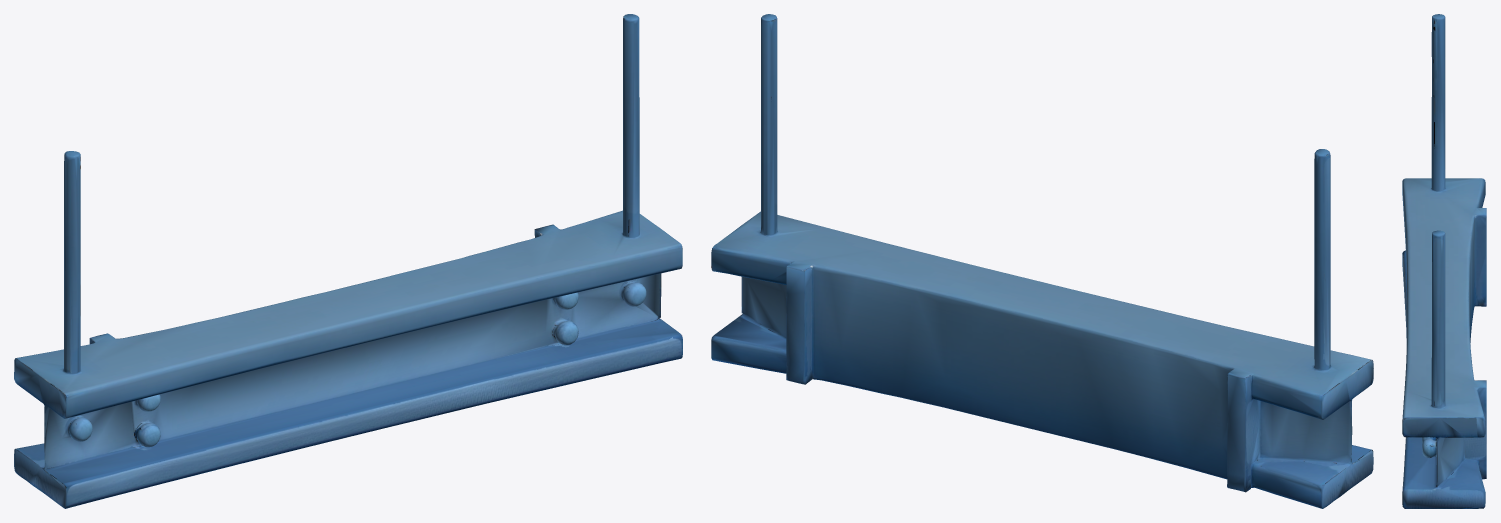
File: obstacle_duckbeam.glb
3 renders of one model, left to right at view 1: azimuth 30°, elevation 25°; view 2: azimuth 150°, elevation 25°; view 3: azimuth 270°, elevation 25°, orthographic. The views are drawn at different scales.
Visible parts, largest first — view 1: model; view 2: model; view 3: model.
Boxes of the visible parts, bbox=[...] form: model: bbox=[14, 14, 682, 508]; model: bbox=[711, 14, 1373, 508]; model: bbox=[1402, 14, 1486, 508].
Size of the model in its own units: 1.9 by 0.9812 by 0.2838.
Materials: 1 (1 with a texture image).
